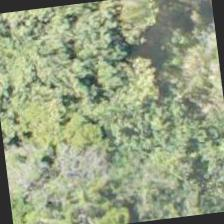Kelapa_Sawit: (125, 83, 223, 184)
